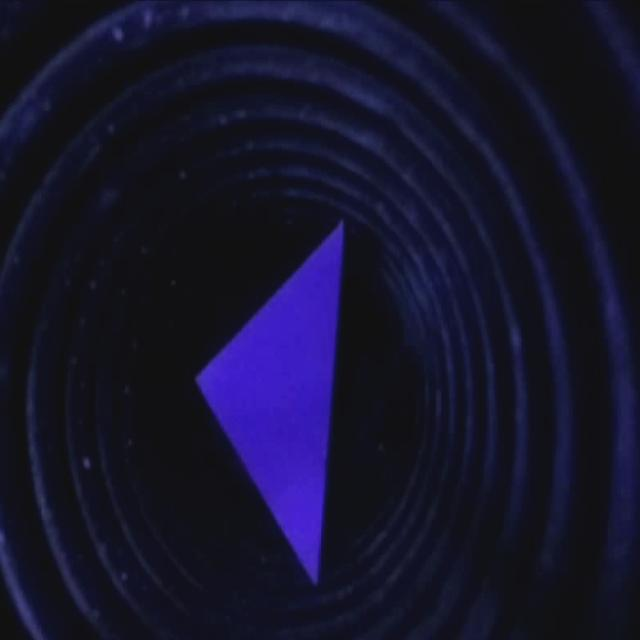obstacles: (191, 227, 345, 580)
